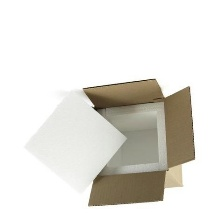foam_box: (20, 85, 131, 198), (76, 97, 172, 177)
